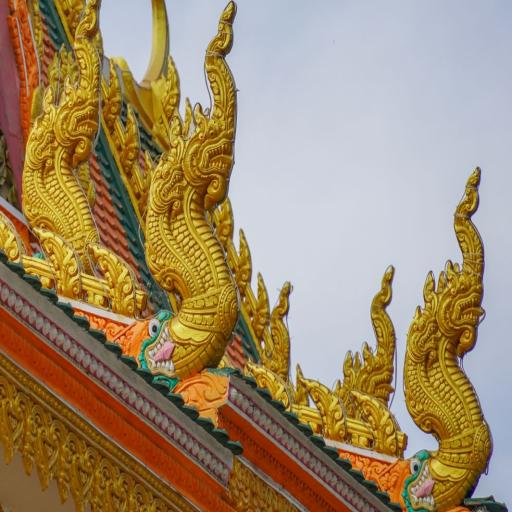la: (31, 396, 58, 494), (60, 423, 88, 512), (93, 446, 125, 512), (0, 390, 28, 463), (120, 469, 152, 512)
ran: (143, 22, 240, 376), (404, 171, 499, 510), (23, 13, 107, 294), (343, 268, 398, 459), (260, 286, 293, 382)
